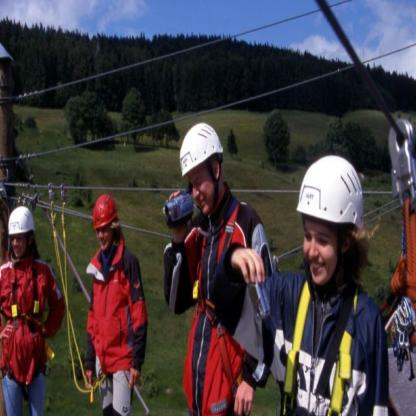Helmet: (301, 150, 367, 286), (179, 119, 223, 225), (93, 194, 120, 258), (10, 204, 36, 254)
